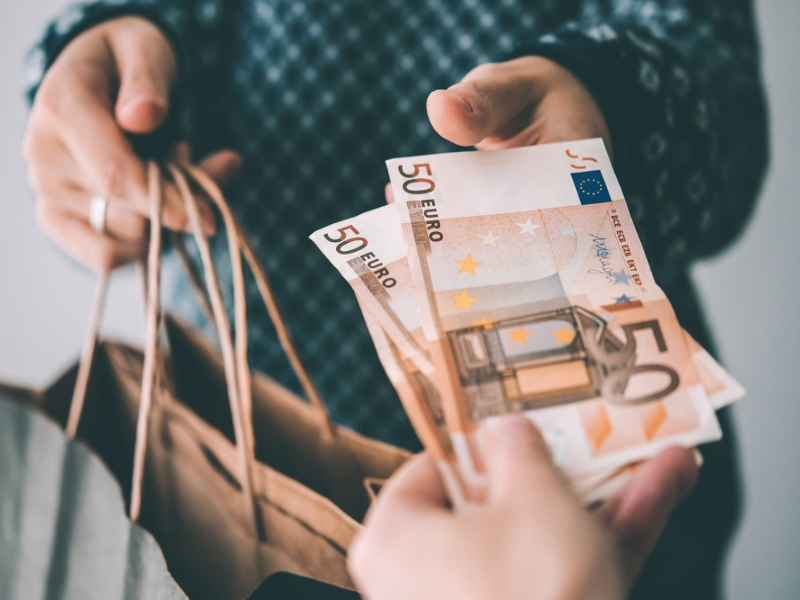cash: (309, 137, 746, 496)
